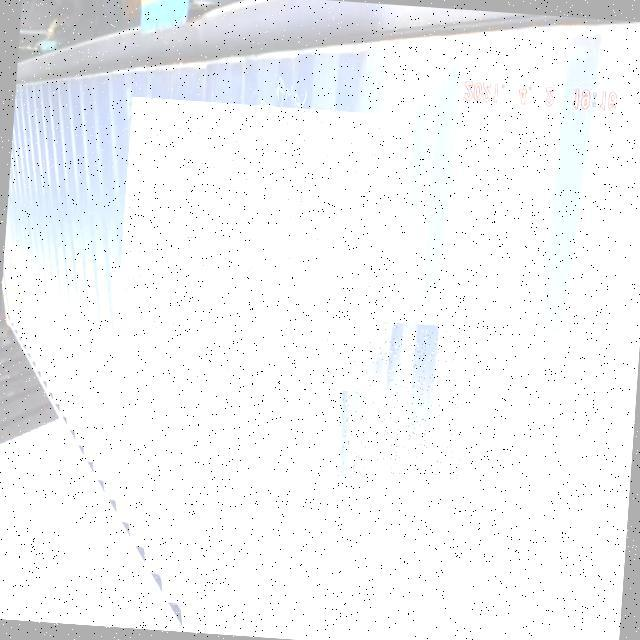Dent: (113, 96, 382, 389)
Minor-Dent: (335, 317, 469, 485)
